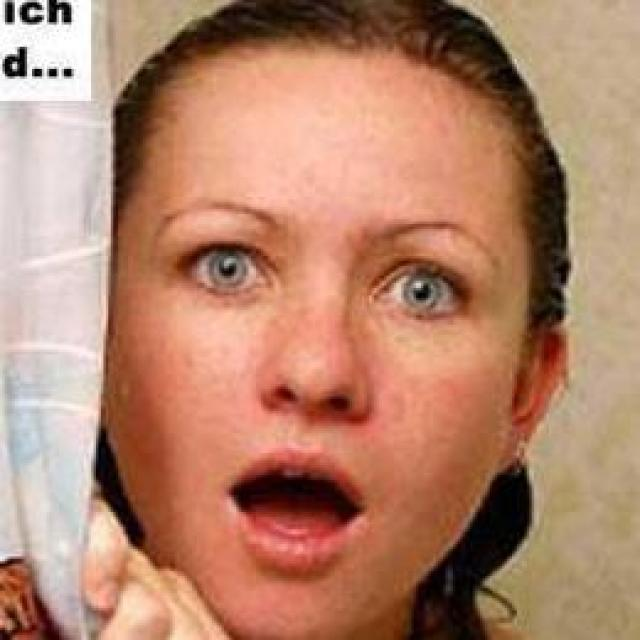surprised: (103, 118, 520, 618)
